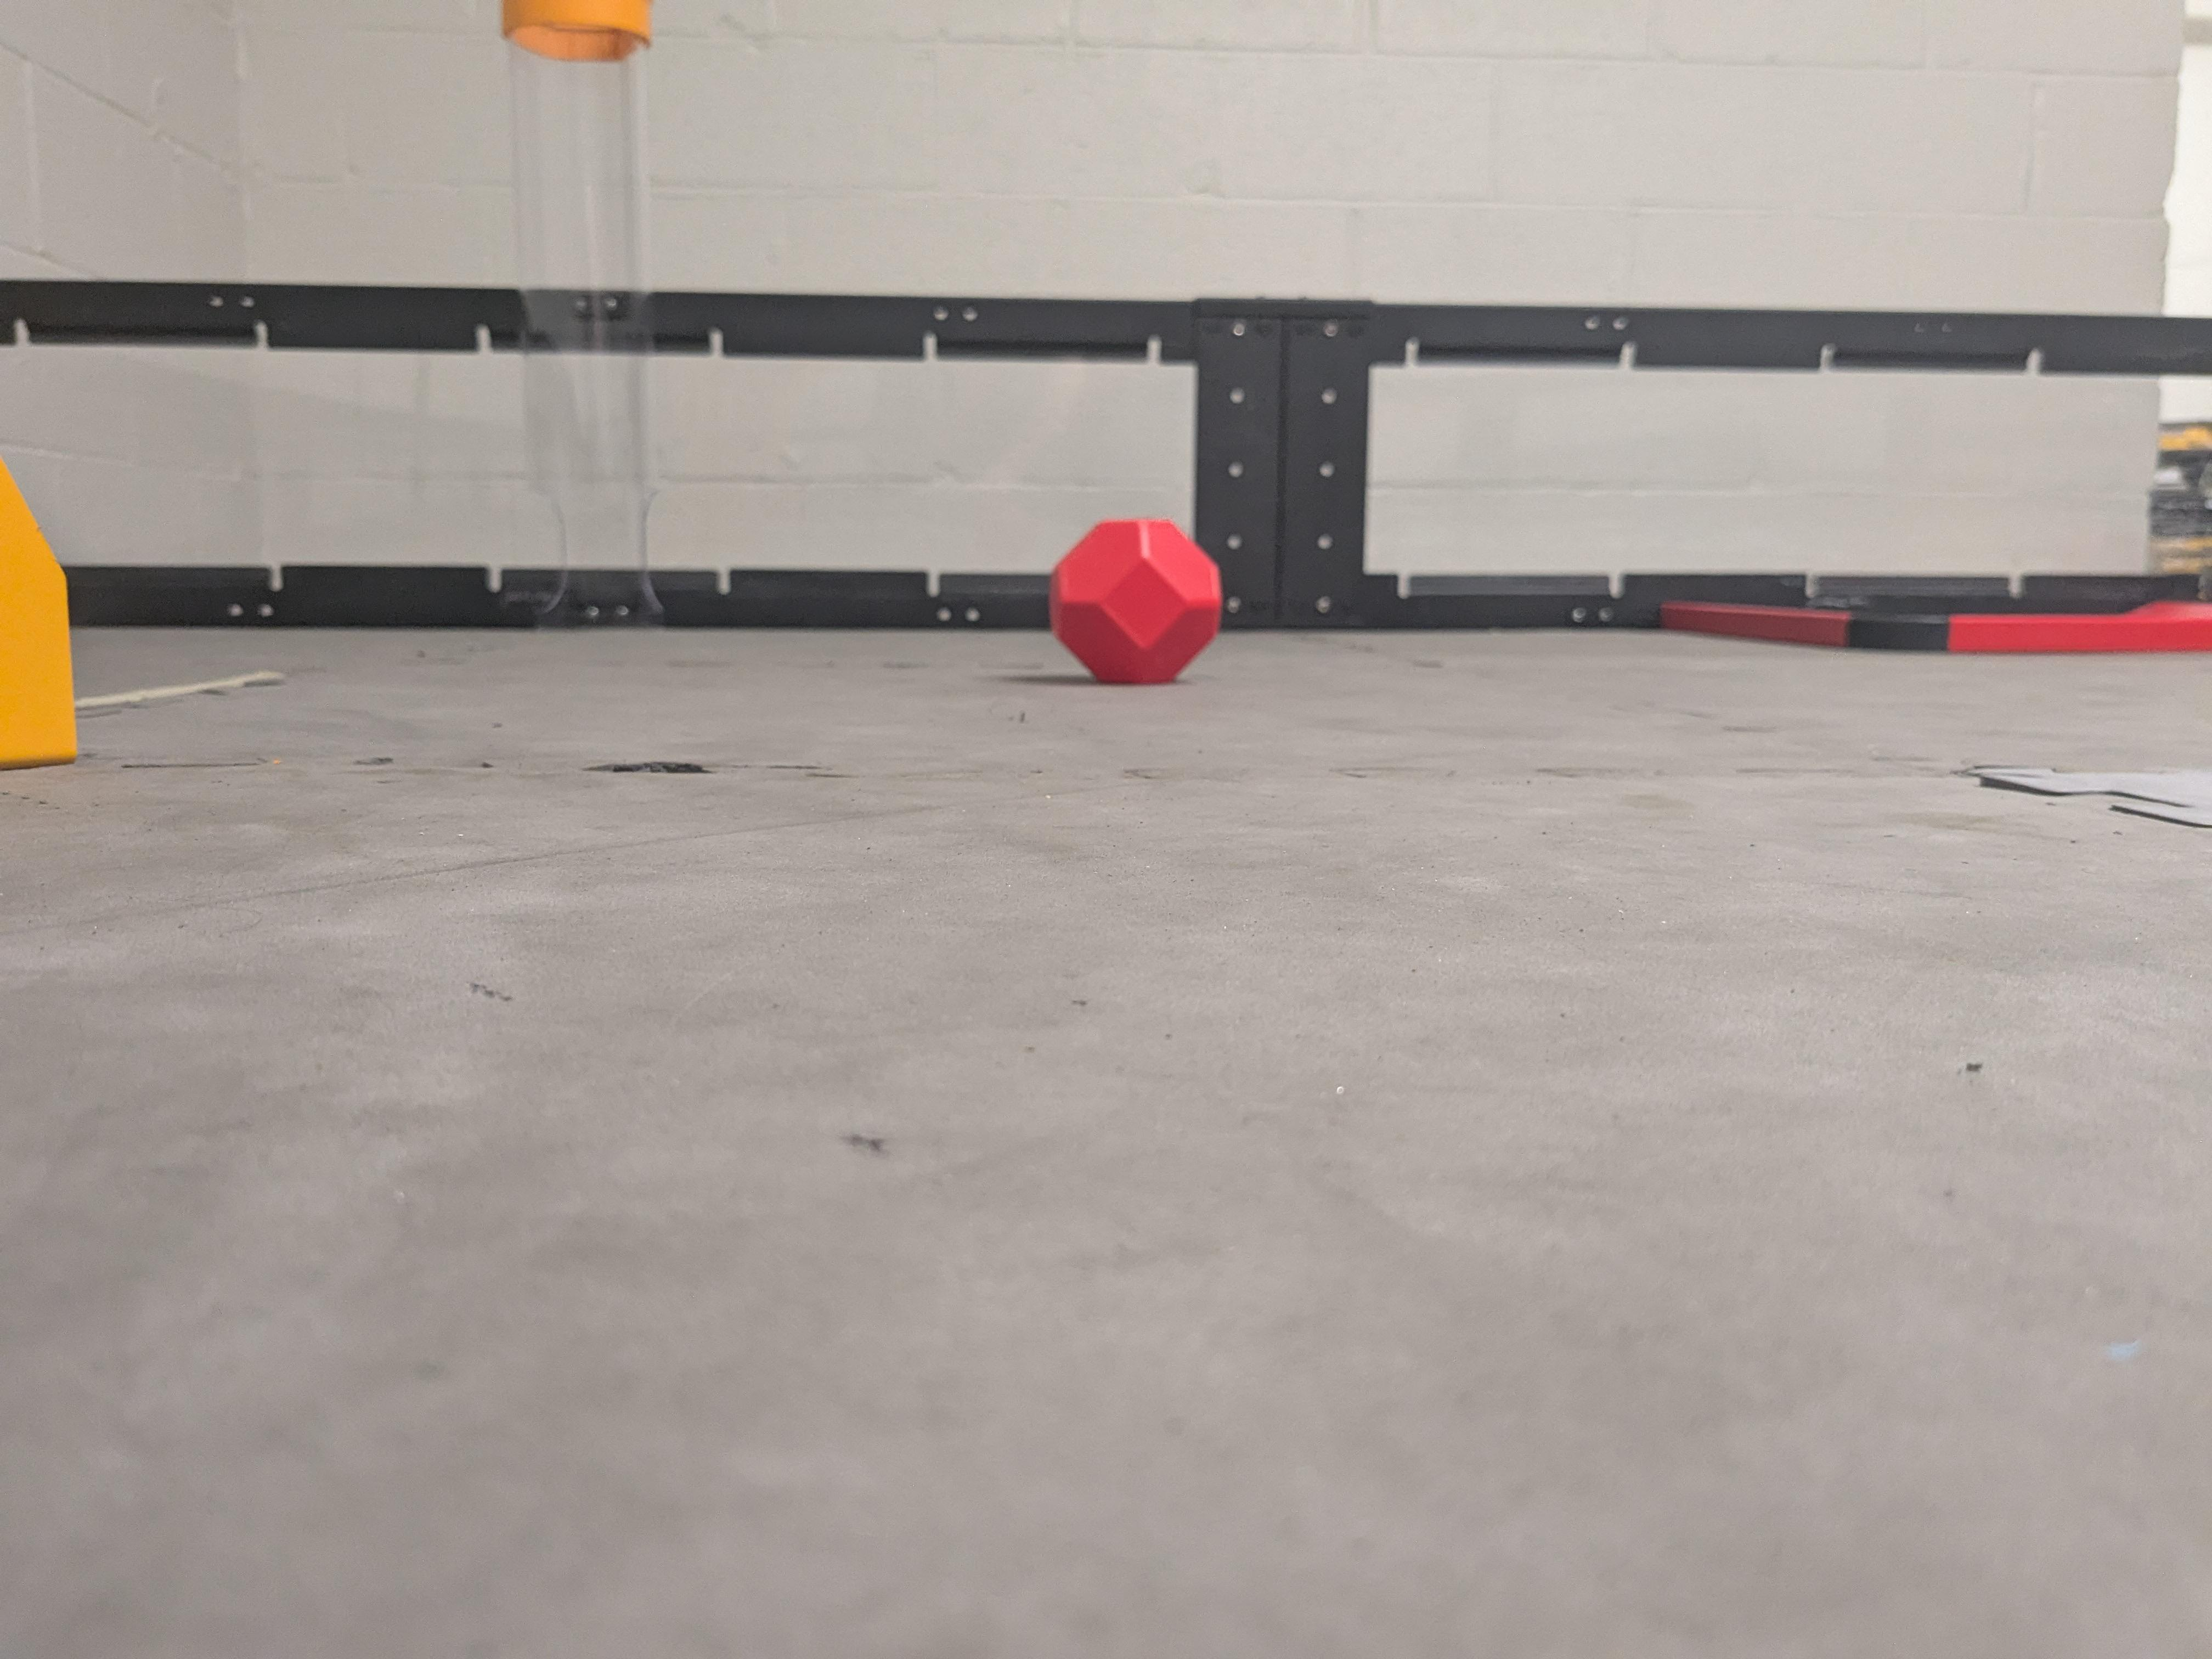Vex-Pieces-RED: (1054, 519, 1219, 681)
